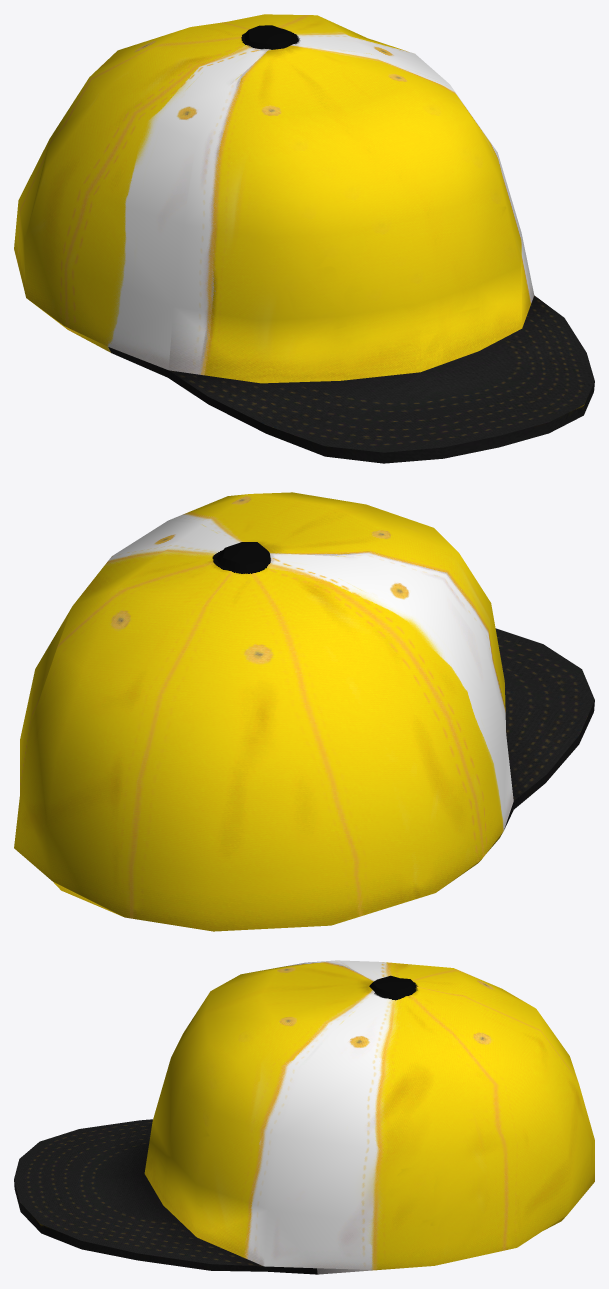
The model's file is Hat_Yellow.fbx.
The picture shows the model from 3 angles, top to bottom: view 1: azimuth 30°, elevation 25°; view 2: azimuth 150°, elevation 25°; view 3: azimuth 270°, elevation 25°; orthographic projection. The views are drawn at different scales.
Parts seen in each view (by area): view 1: Hat_Yellow; view 2: Hat_Yellow; view 3: Hat_Yellow.
Part boxes in pixels (x1,y1,x2,y2): Hat_Yellow: (14, 14, 594, 463); Hat_Yellow: (14, 492, 594, 931); Hat_Yellow: (14, 960, 594, 1274).
Bounding box in the file's own units: 0.2378 × 0.1458 × 0.3546.
